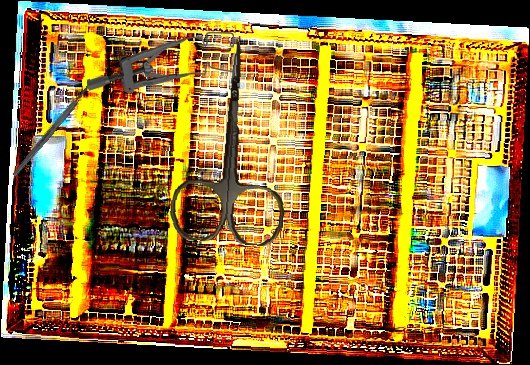Iris Scissors: (167, 31, 299, 248)
Scalpel Handle: (11, 83, 92, 178)
Speculum: (86, 26, 237, 98)
